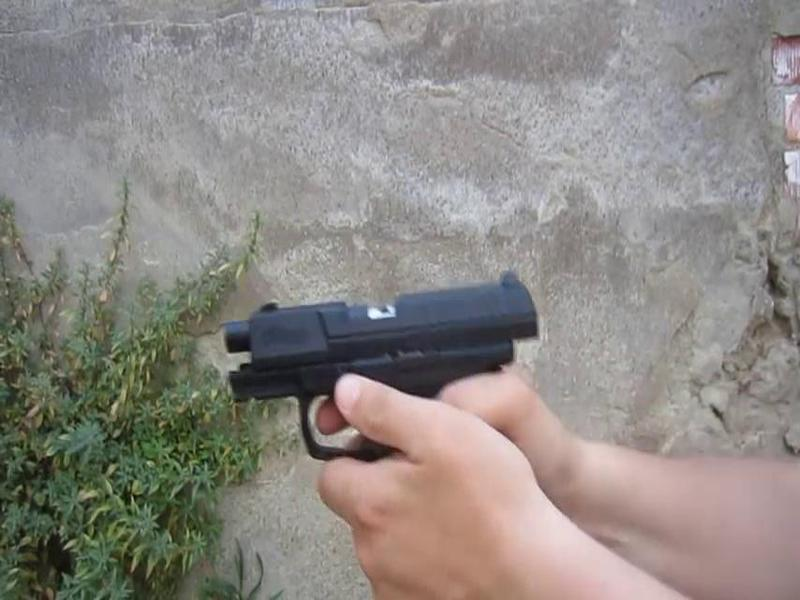Pistola: (224, 245, 562, 463)
